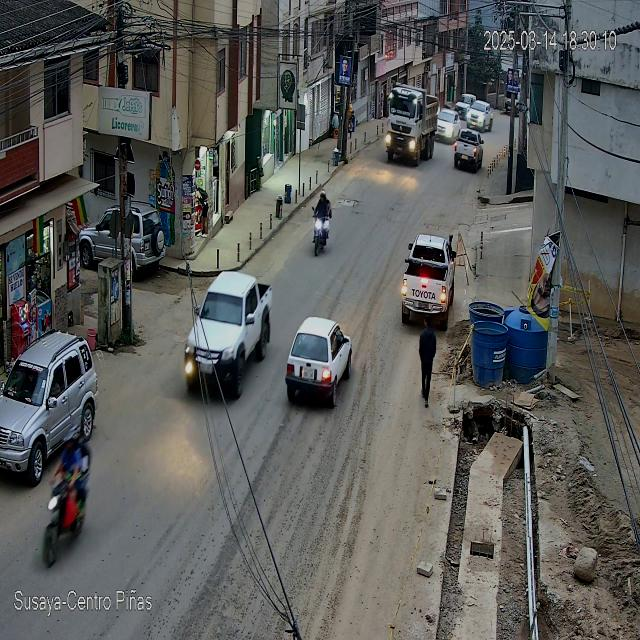CMT: (184, 272, 272, 402), (401, 234, 458, 332)
MOTORCYCLE: (46, 483, 96, 561), (309, 216, 333, 259)
SED: (285, 316, 349, 408)
TRUCK: (385, 83, 437, 168)
